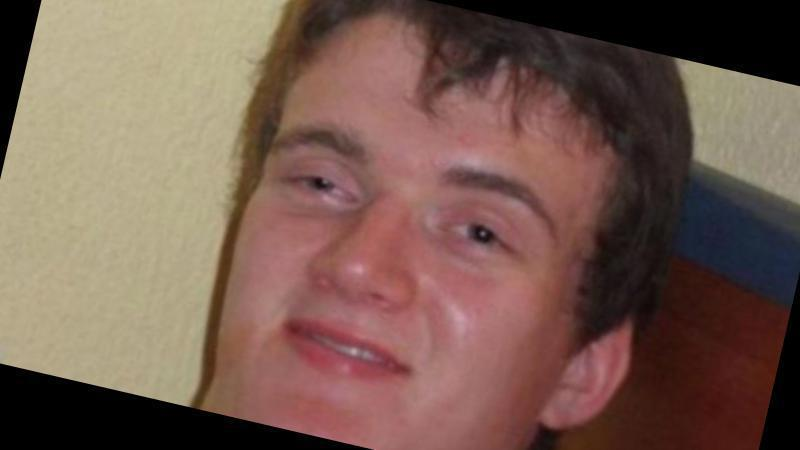Drunk: (267, 41, 566, 437)
